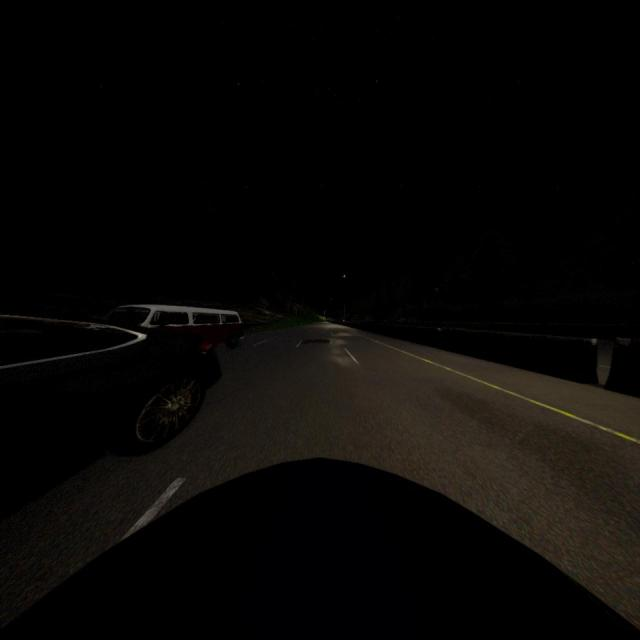Vehicle: (0, 460, 640, 640), (0, 314, 224, 460), (105, 304, 244, 348)
